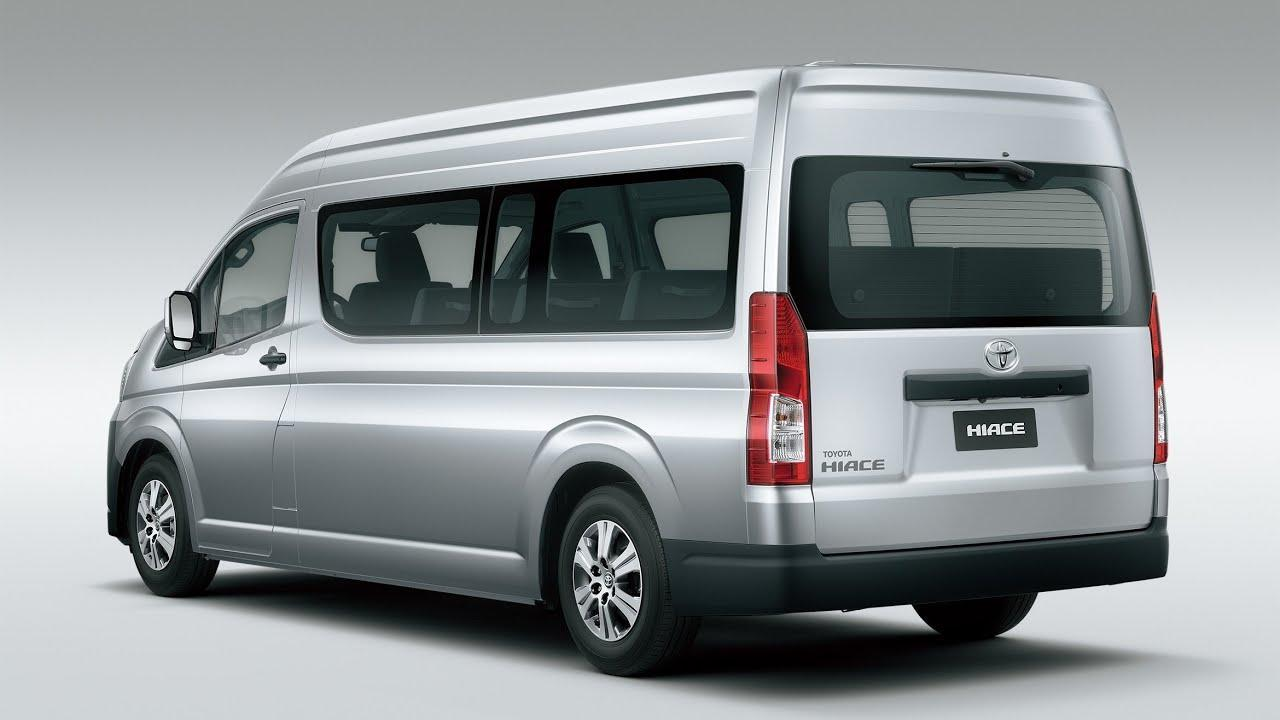car: (94, 77, 1181, 657)
